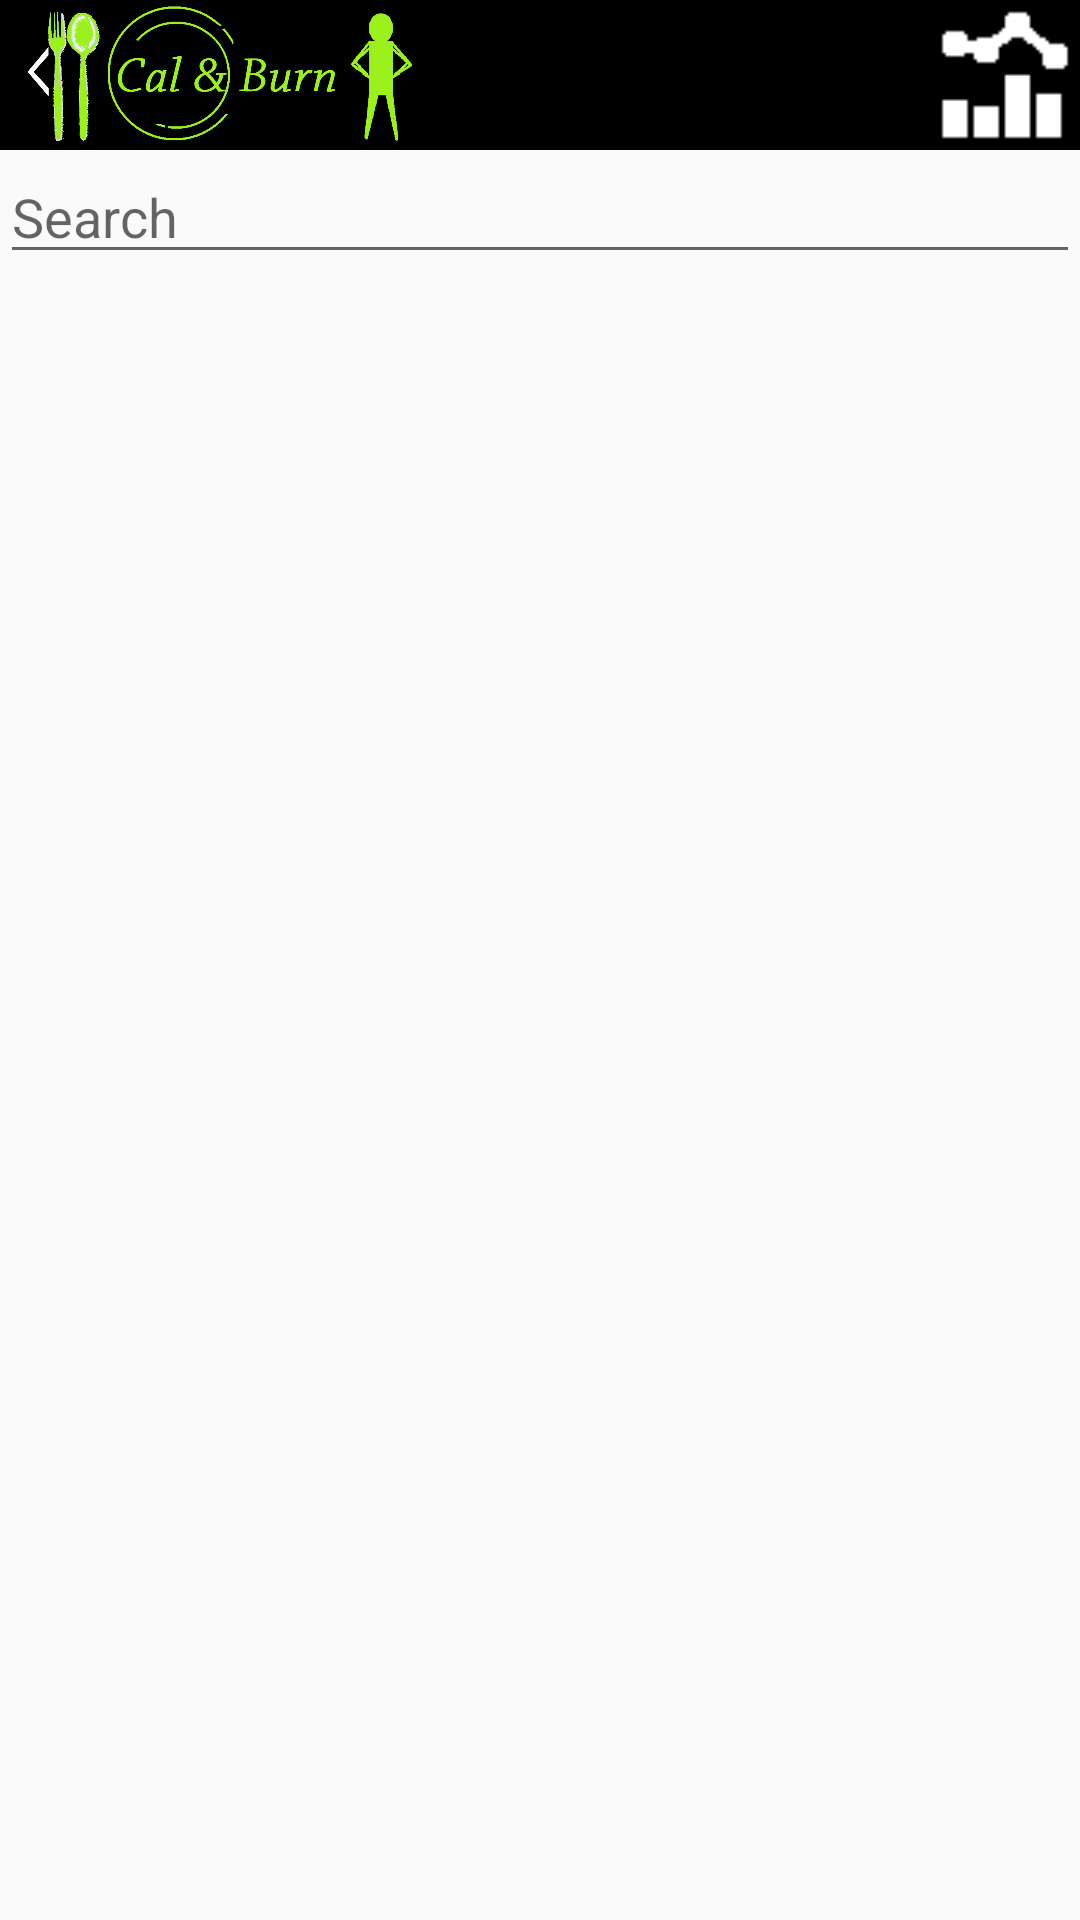

Icon bounding boxes for this 1080 x 1920 phone screenshot, format region(x1, y1, x2, y2):
reporttop: region(941, 11, 1069, 139)
